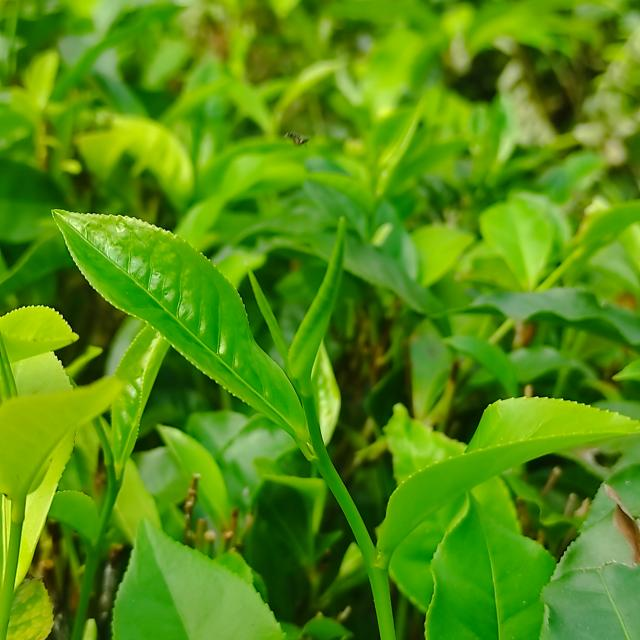unopened_leaf: (279, 209, 359, 392), (245, 261, 312, 391), (372, 96, 437, 205), (0, 314, 28, 396)
